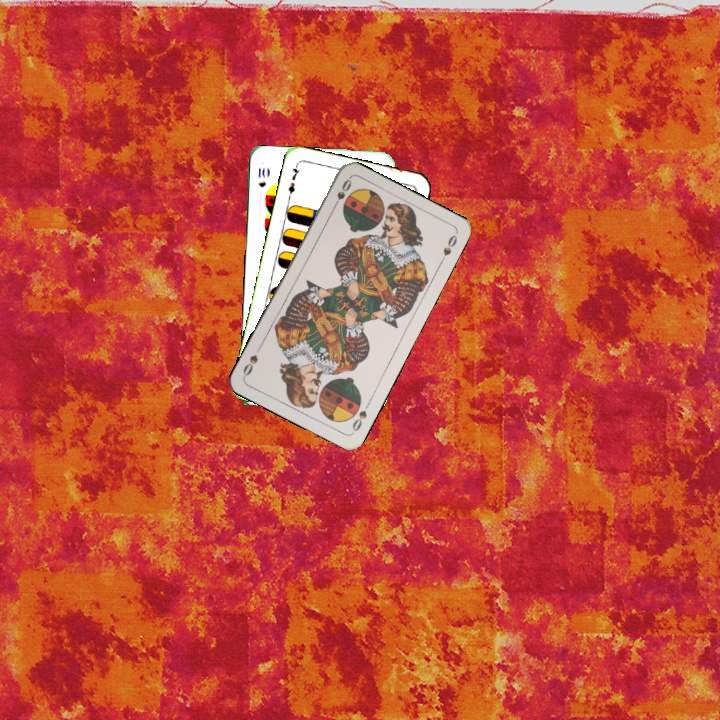E7: (284, 160, 303, 201)
S10: (254, 164, 268, 190)
SO: (328, 175, 354, 213), (348, 398, 373, 436)
